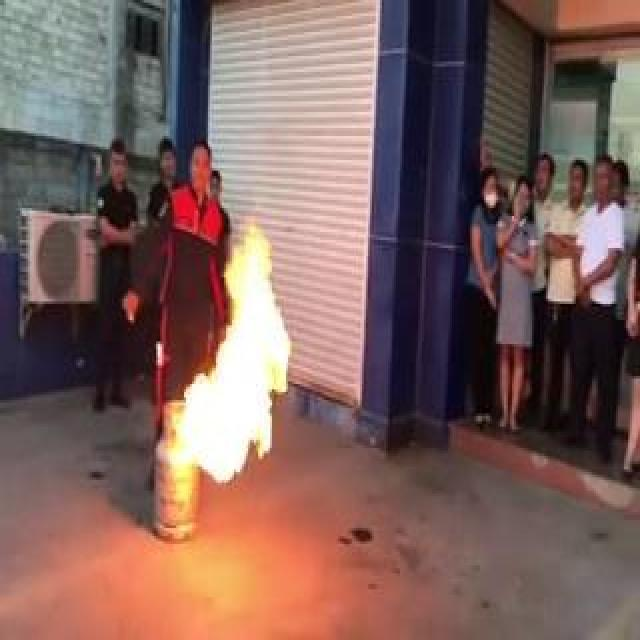Smoke: (176, 223, 294, 486)
